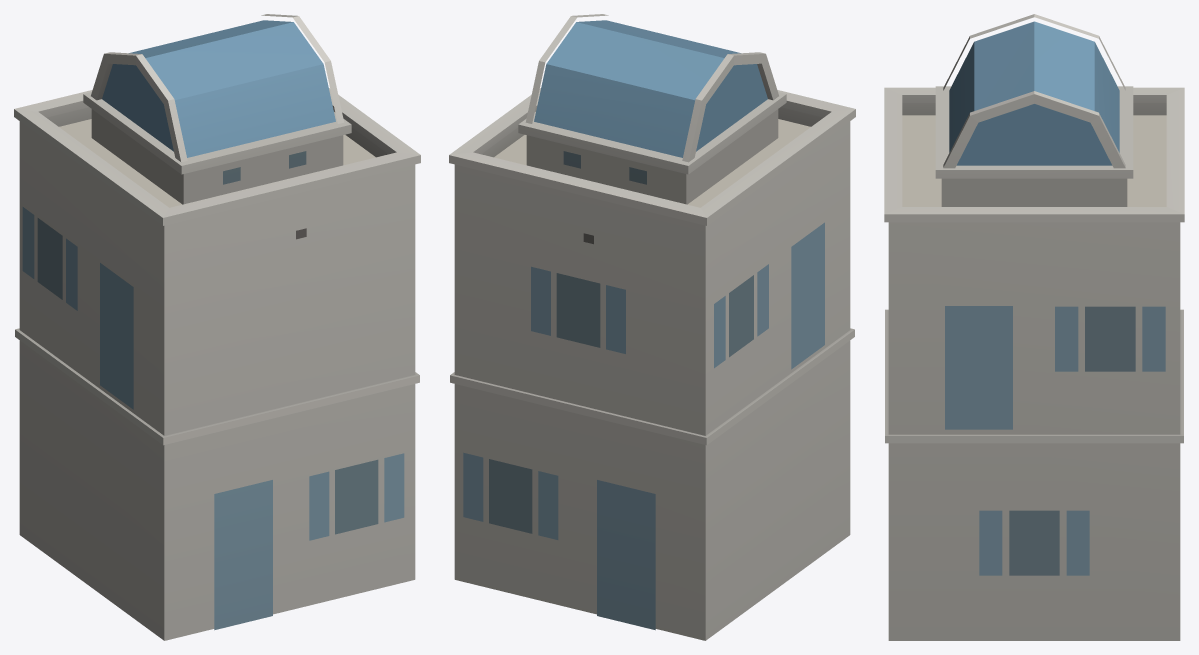
Rendered from dome2.lod2.glb.
The picture shows the model from 3 angles, left to right: view 1: azimuth 30°, elevation 25°; view 2: azimuth 150°, elevation 25°; view 3: azimuth 270°, elevation 25°; orthographic projection.
Size of the model in its own units: 4.4 by 8.5 by 4.4.
